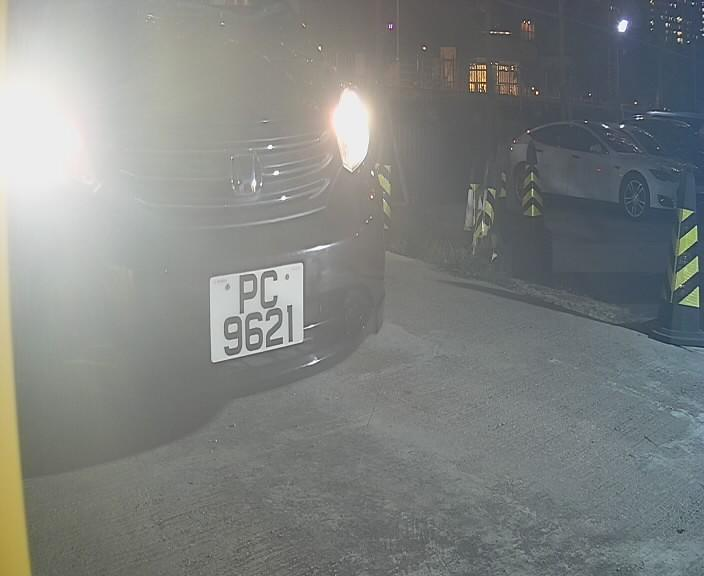License Plate: (199, 253, 309, 368)
